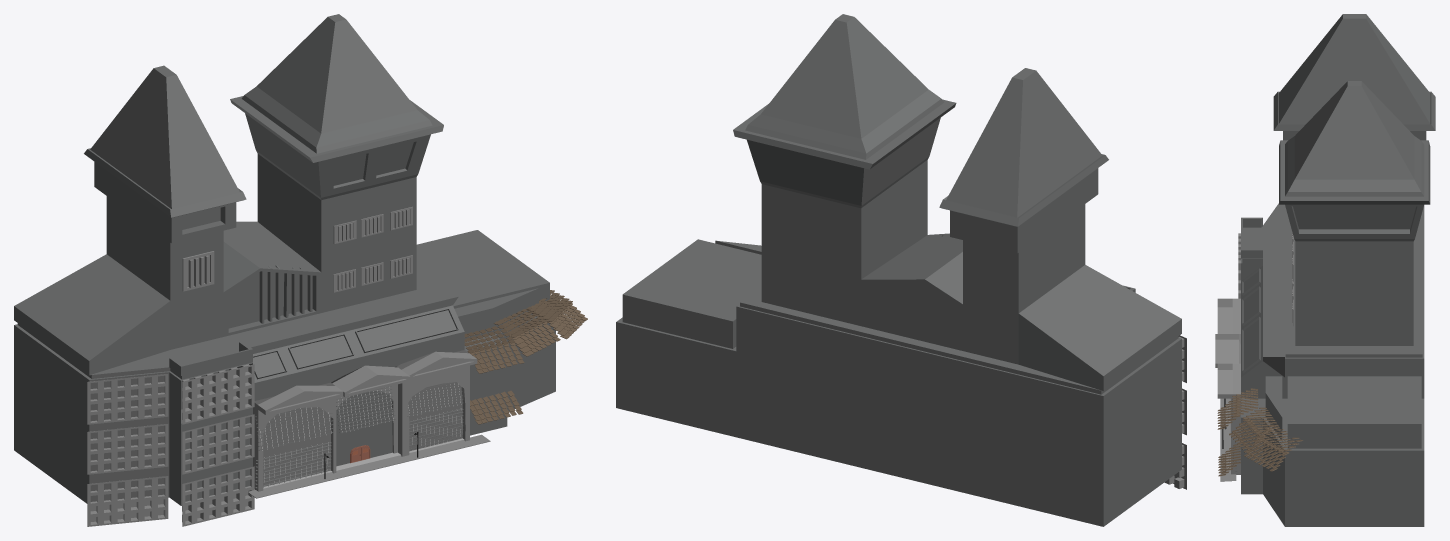
File: NEw Castle.fbx
3 renders of one model, left to right at view 1: azimuth 30°, elevation 25°; view 2: azimuth 150°, elevation 25°; view 3: azimuth 270°, elevation 25°, orthographic. The views are drawn at different scales.
Visible parts, largest first — view 1: Plane.044; view 2: Plane.044; view 3: Plane.044.
Part boxes in pixels (x1,y1,x2,y2): Plane.044: (14,14,587,526); Plane.044: (616,14,1186,526); Plane.044: (1215,14,1435,526).
Bounding box in the file's own units: 11013 × 8716 × 4581.
